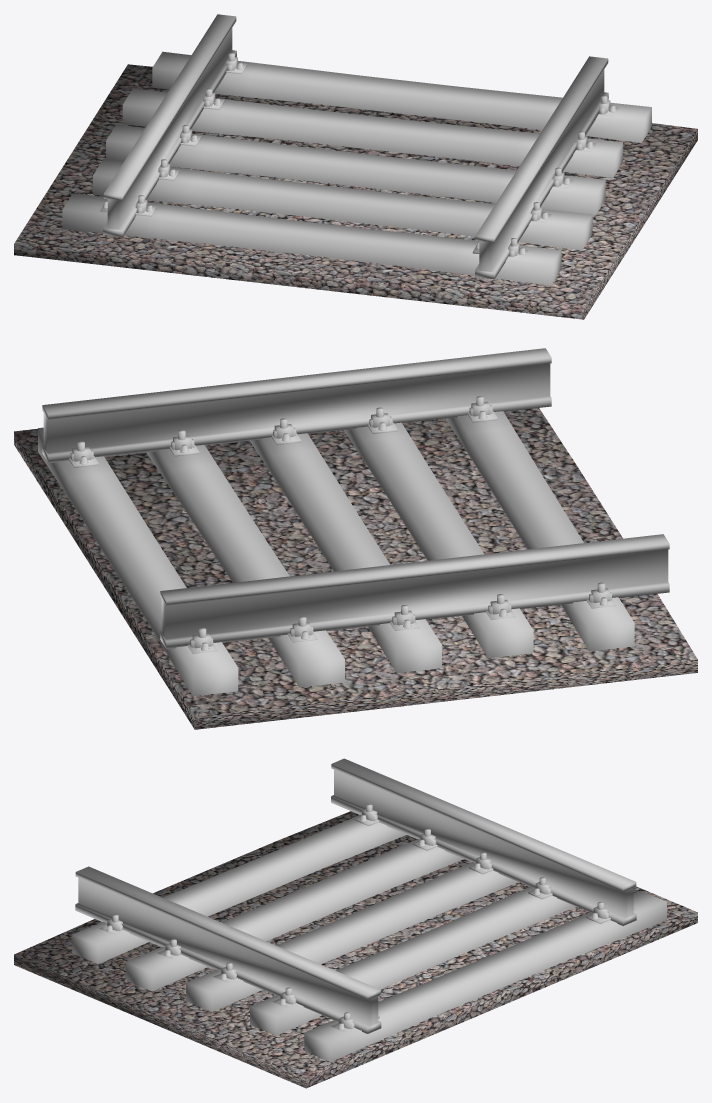
File: track_straigh45_wood.fbx
3 renders of one model, top to bottom at view 1: azimuth 30°, elevation 25°; view 2: azimuth 150°, elevation 25°; view 3: azimuth 270°, elevation 25°, orthographic. The views are drawn at different scales.
Visible parts, largest first — view 1: wood, ground, rails; view 2: ground, rails, wood; view 3: wood, ground, rails.
Part boxes in pixels (x1,y1,x2,y2): wood: (62,51,651,285); ground: (14,64,697,319); rails: (100,14,618,279); ground: (14,408,697,729); rails: (42,348,669,653); wood: (38,411,634,696); wood: (72,814,666,1061); ground: (14,811,697,1088); rails: (75,758,636,1033).
Size of the model in its own units: 3.52 by 0.3803 by 3.52.
